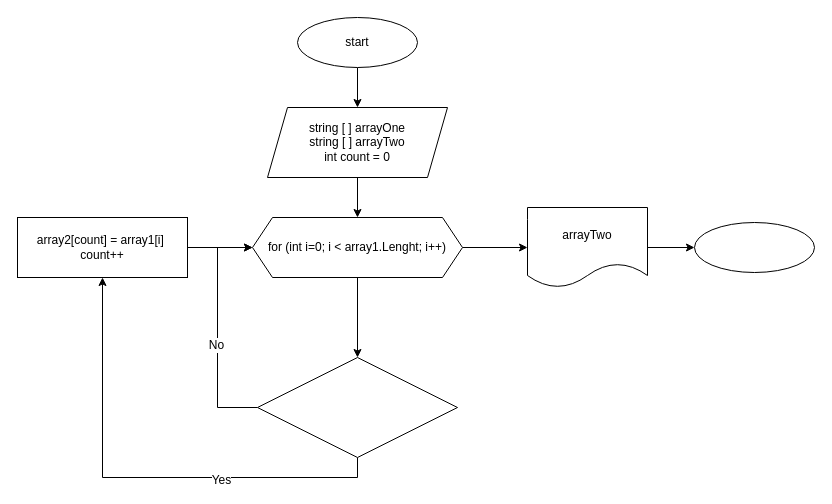
The diagram is 832 pixels wide and 504 high, and some of its shapes have lost their labels. The box of each missing label's shape, as (x1, y1, x2, y2) in pixels:
end: (694, 222, 814, 272)
if (array1[i].Lenght <= 3: (256, 356, 458, 458)
